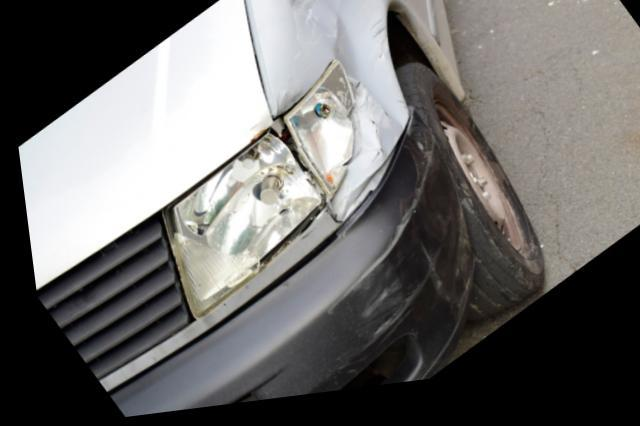dent: (272, 0, 405, 136)
lamp broken: (161, 65, 353, 324)
scratch: (323, 154, 468, 343)
